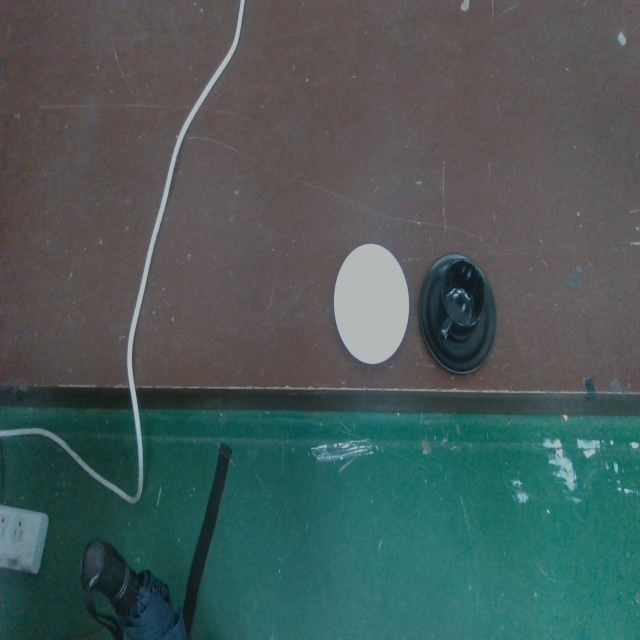black: (416, 250, 498, 378)
white: (331, 241, 412, 368)
